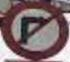Cam re: (2, 1, 67, 57)
